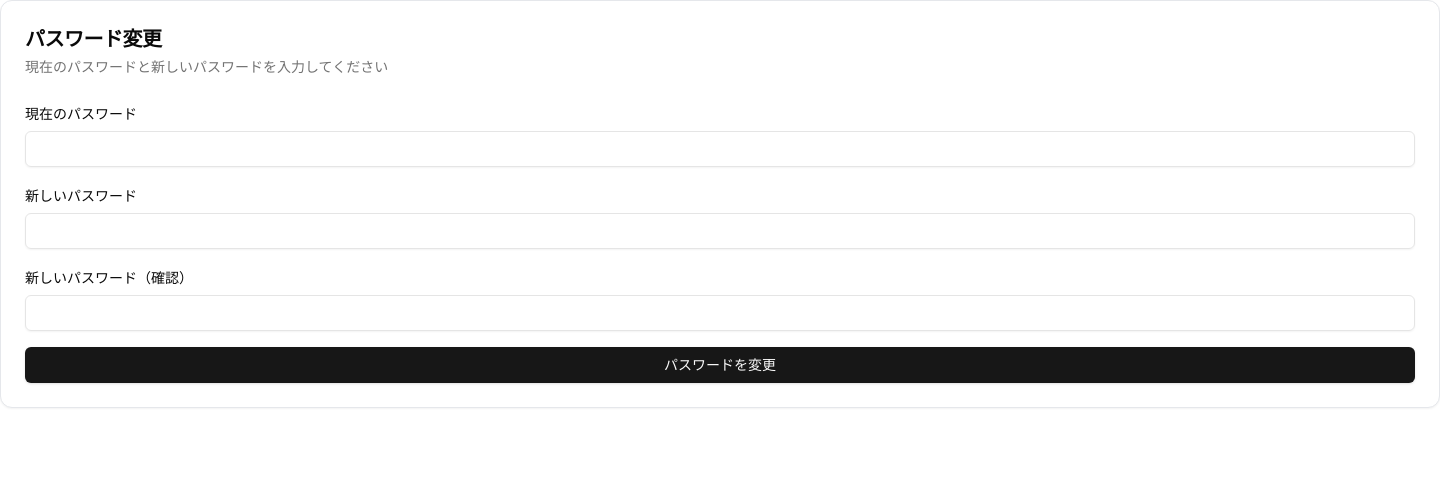
Test: ChangePasswordForm › API からエラーが返った場合（現在のPW誤り）はエラーメッセージが表示される
Type "WrongPass1" into the password field labelled "現在のパスワード" at point(720, 149), box [25, 131, 1415, 167]
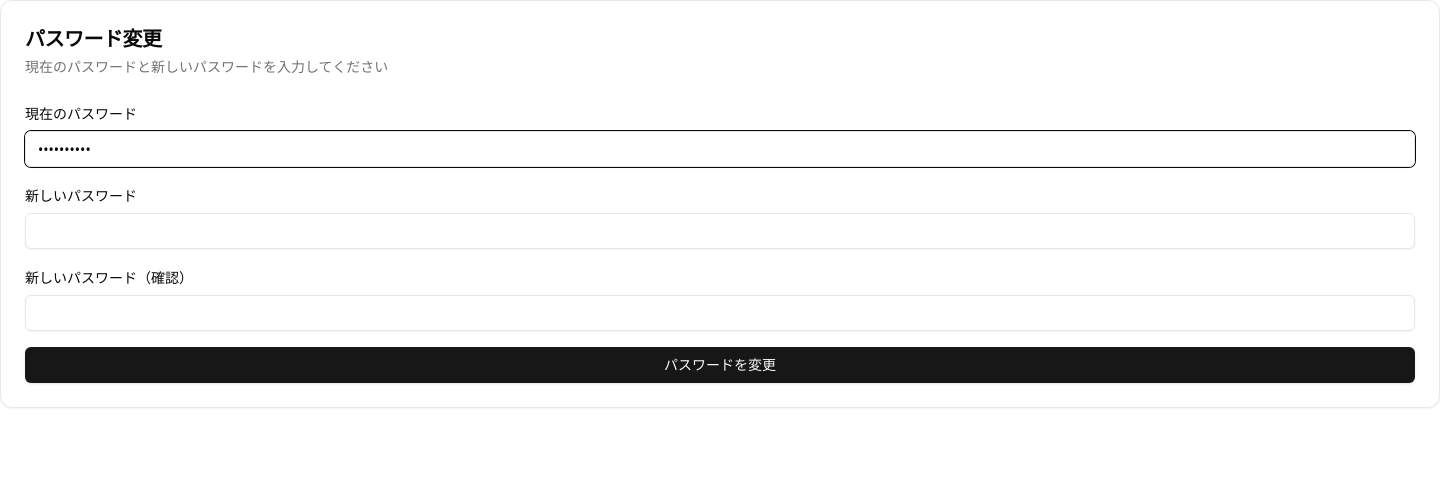
Type "NewPass12" into the password field labelled "新しいパスワード" at point(720, 231), box [25, 213, 1415, 249]
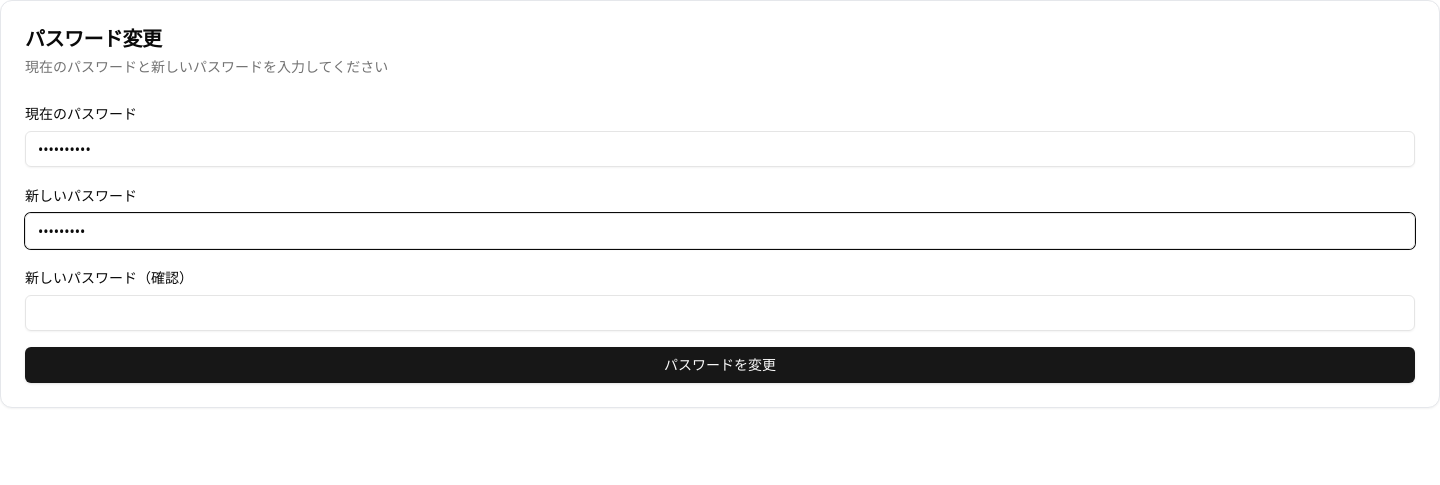
Type "NewPass12" into the password field labelled "新しいパスワード（確認）" at point(720, 313), box [25, 295, 1415, 331]
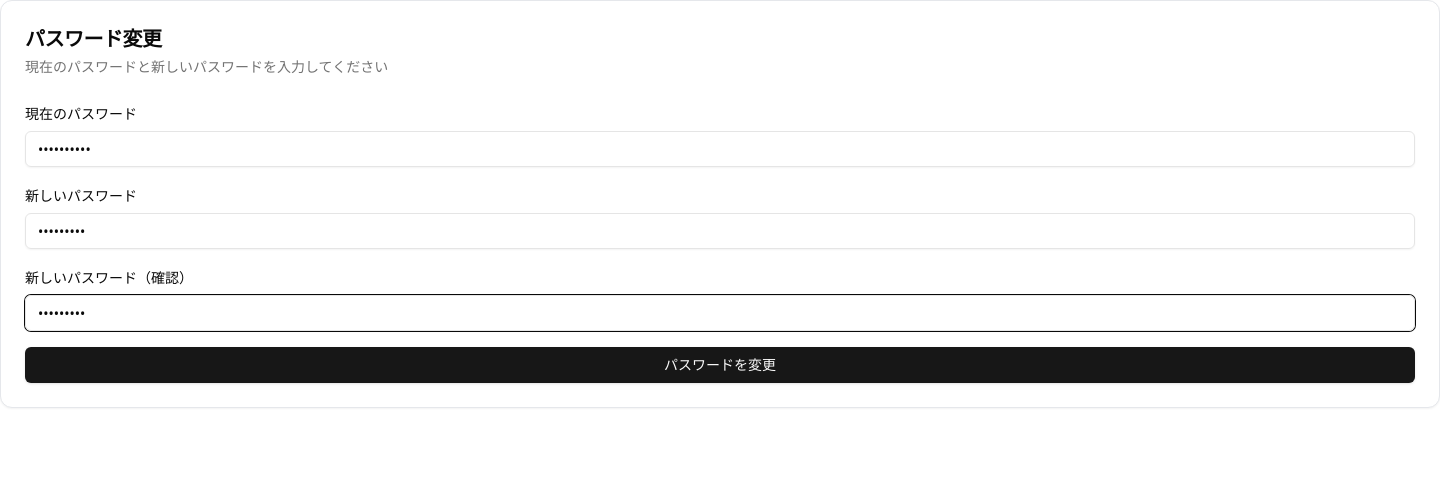
Click the button "パスワードを変更" at point(720, 365), box [25, 347, 1415, 383]
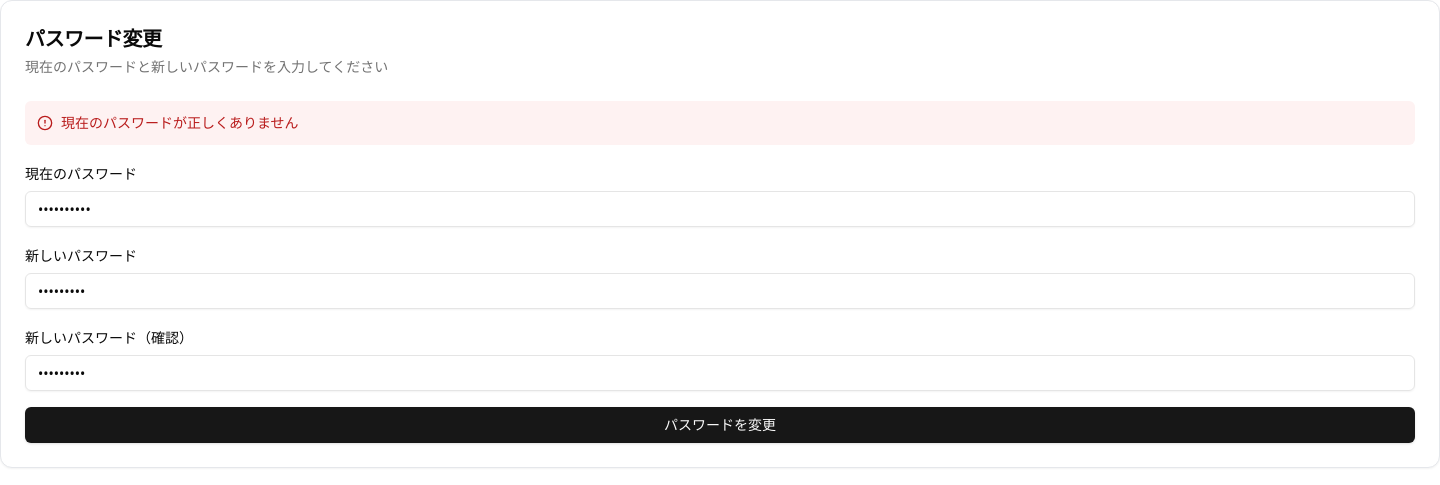
Expected: the text "現在のパスワードが正しくありません" is shown, [61, 113, 299, 133]
